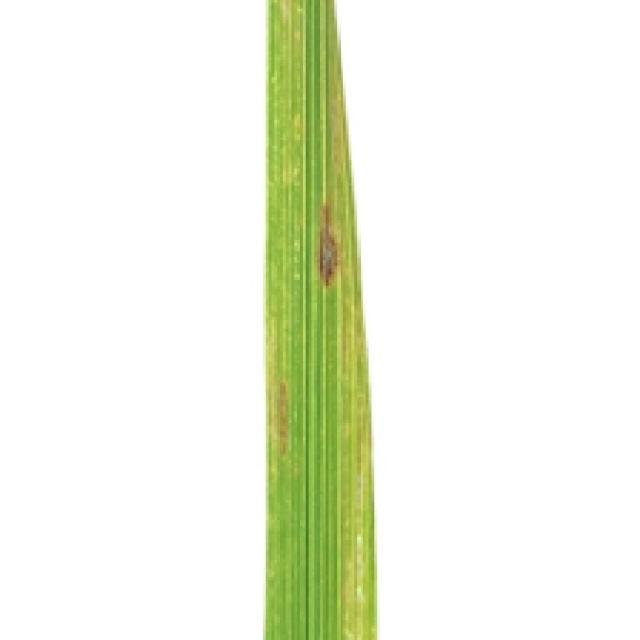Rice___Rice_Blast: (264, 0, 374, 637)
